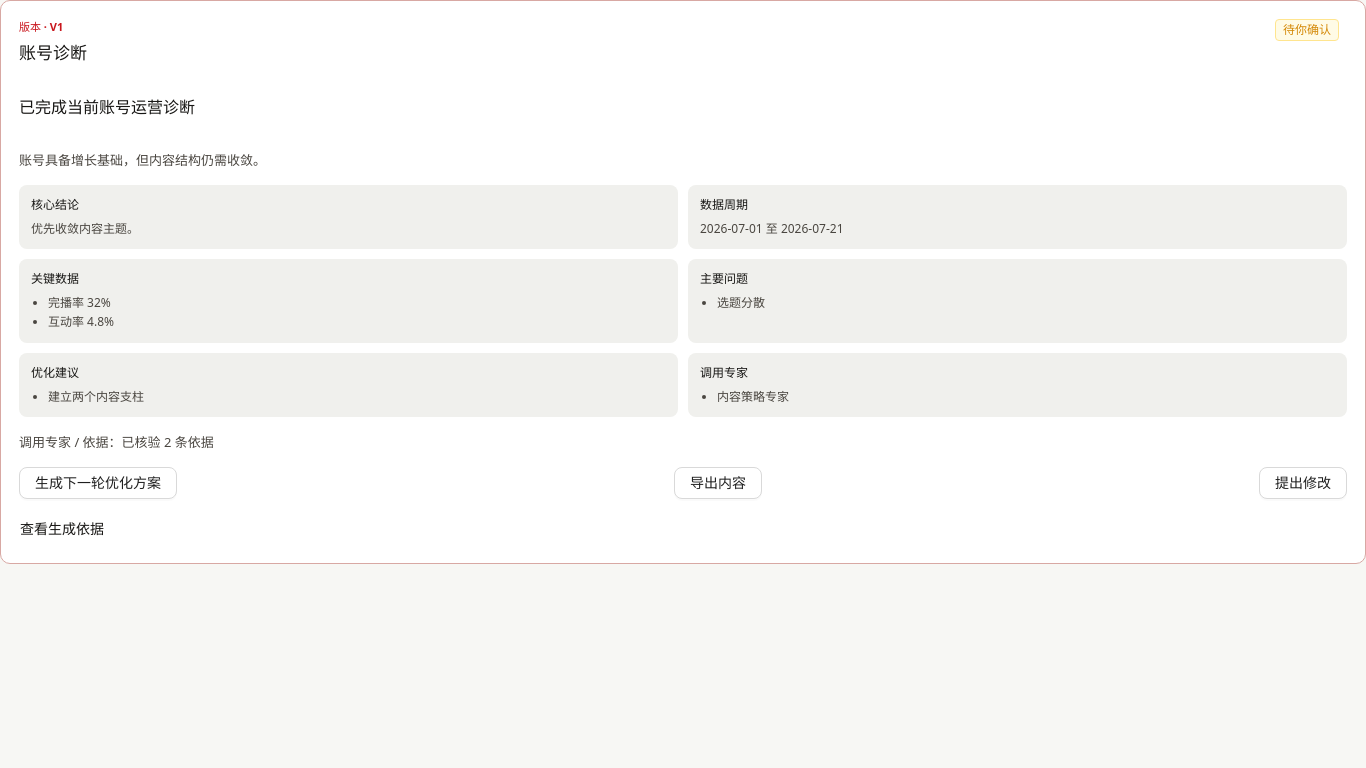
Test case: ArtifactCard › keeps evidence closed by default and reveals only sanitized evidence with specialist labels
Expected: the text "近 21 天账号指标" is not shown
Step 1. Click the button "查看生成依据" → (70,529), box 19,513 -> 120,545
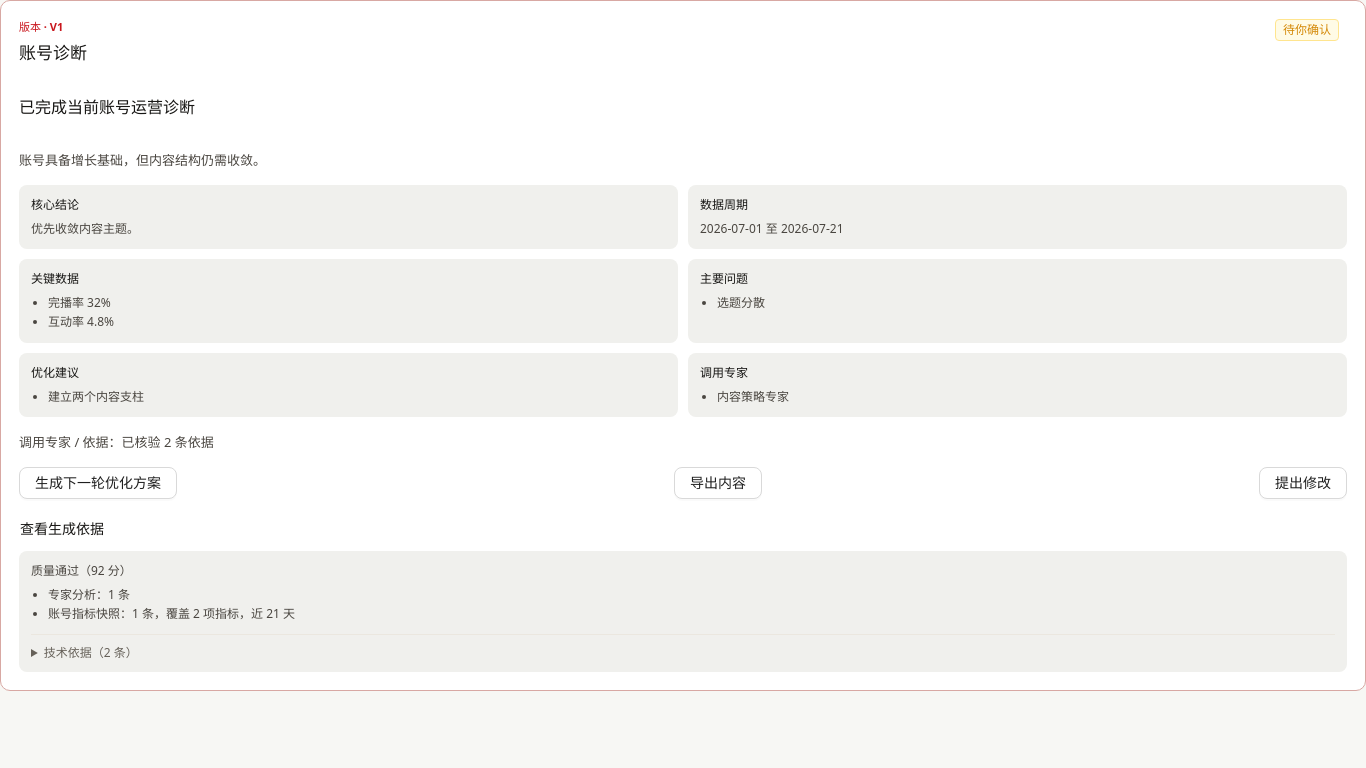
Result: the list item "专家分析：1 条" is shown at 48,586 -> 130,603
Result: the list item "账号指标快照：1 条，覆盖 2 项指标，近 21 天" is shown at 48,605 -> 295,622
Result: the text "质量通过（92 分）" is shown at 31,562 -> 132,579
Step 2. Click the heading "技术依据（2 条）" → (91,652), box 44,644 -> 138,660
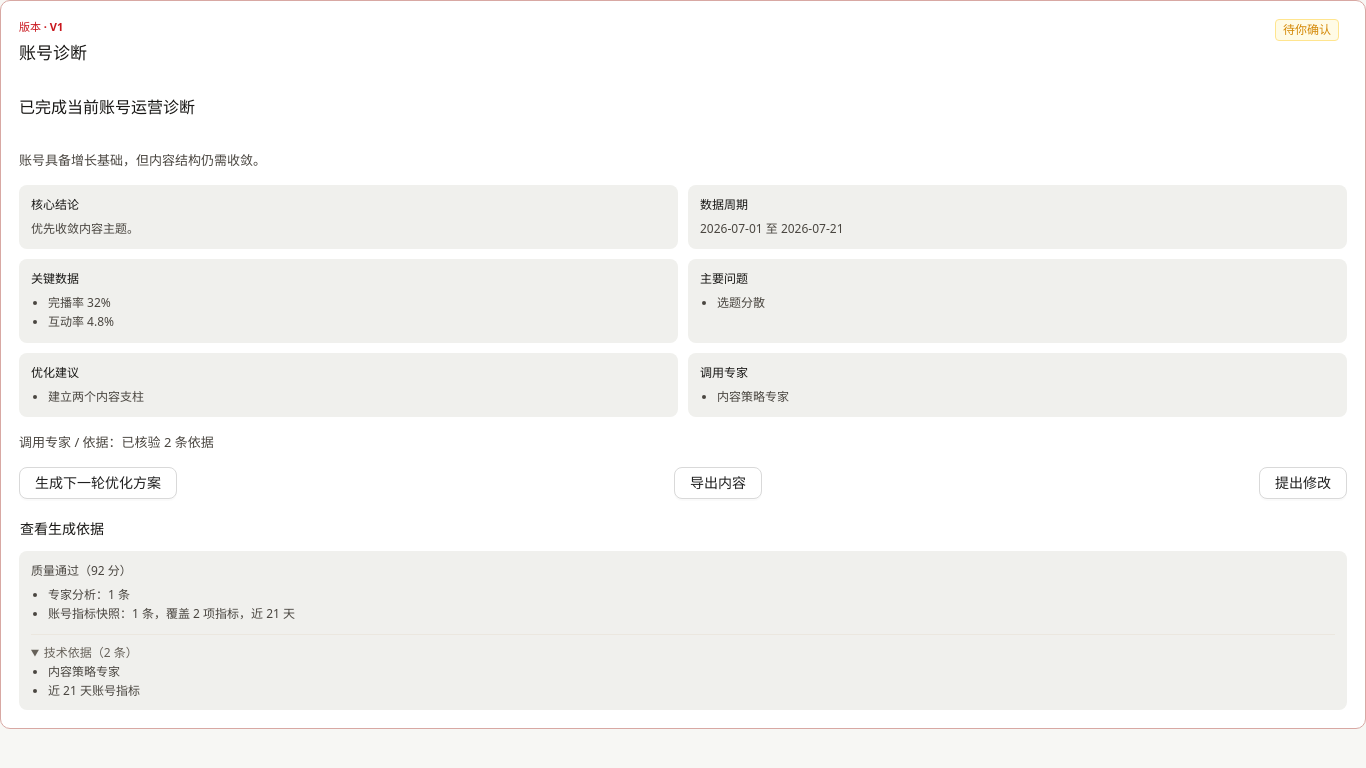
Result: the list item "近 21 天账号指标" is shown at 48,682 -> 140,699
